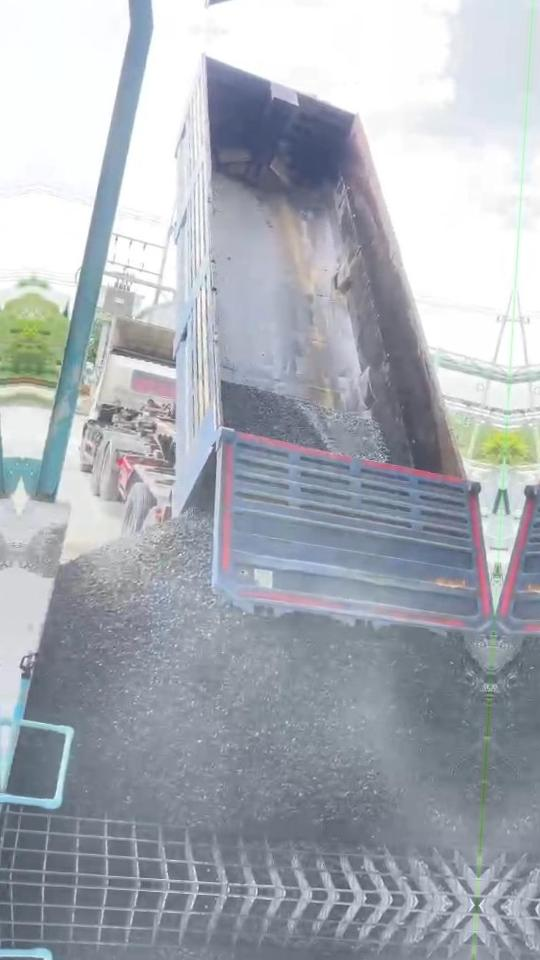gravel: (30, 512, 491, 848), (223, 383, 389, 462), (13, 730, 63, 795)
